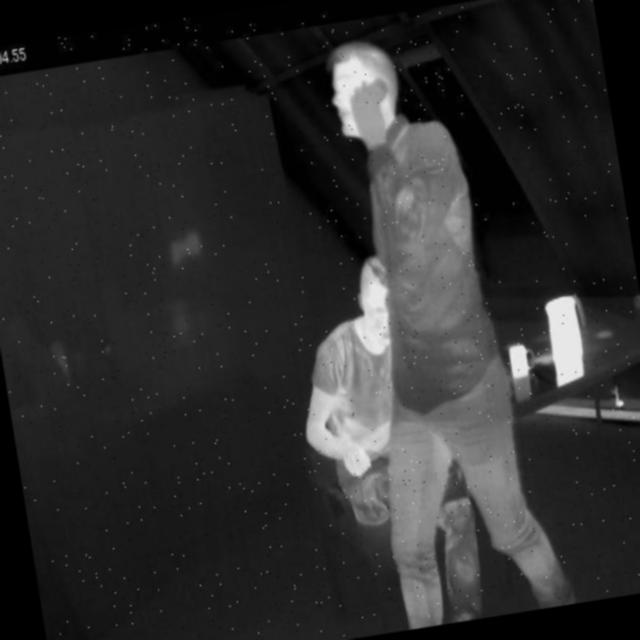person: (326, 22, 572, 628), (267, 229, 499, 640)
